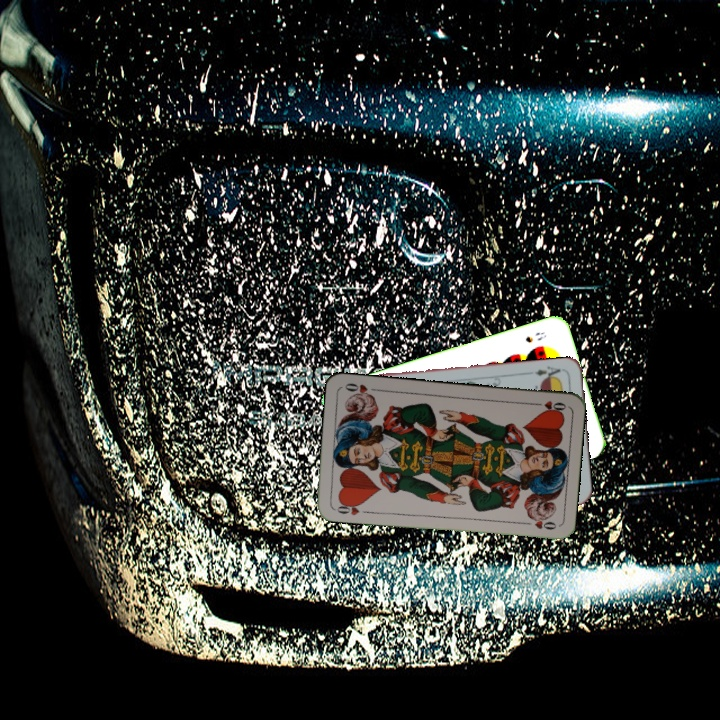EA: (531, 362, 566, 382)
HO: (528, 396, 568, 415), (330, 497, 365, 518)
S8: (522, 328, 549, 345)
